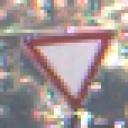preferencia: (20, 30, 118, 110)
